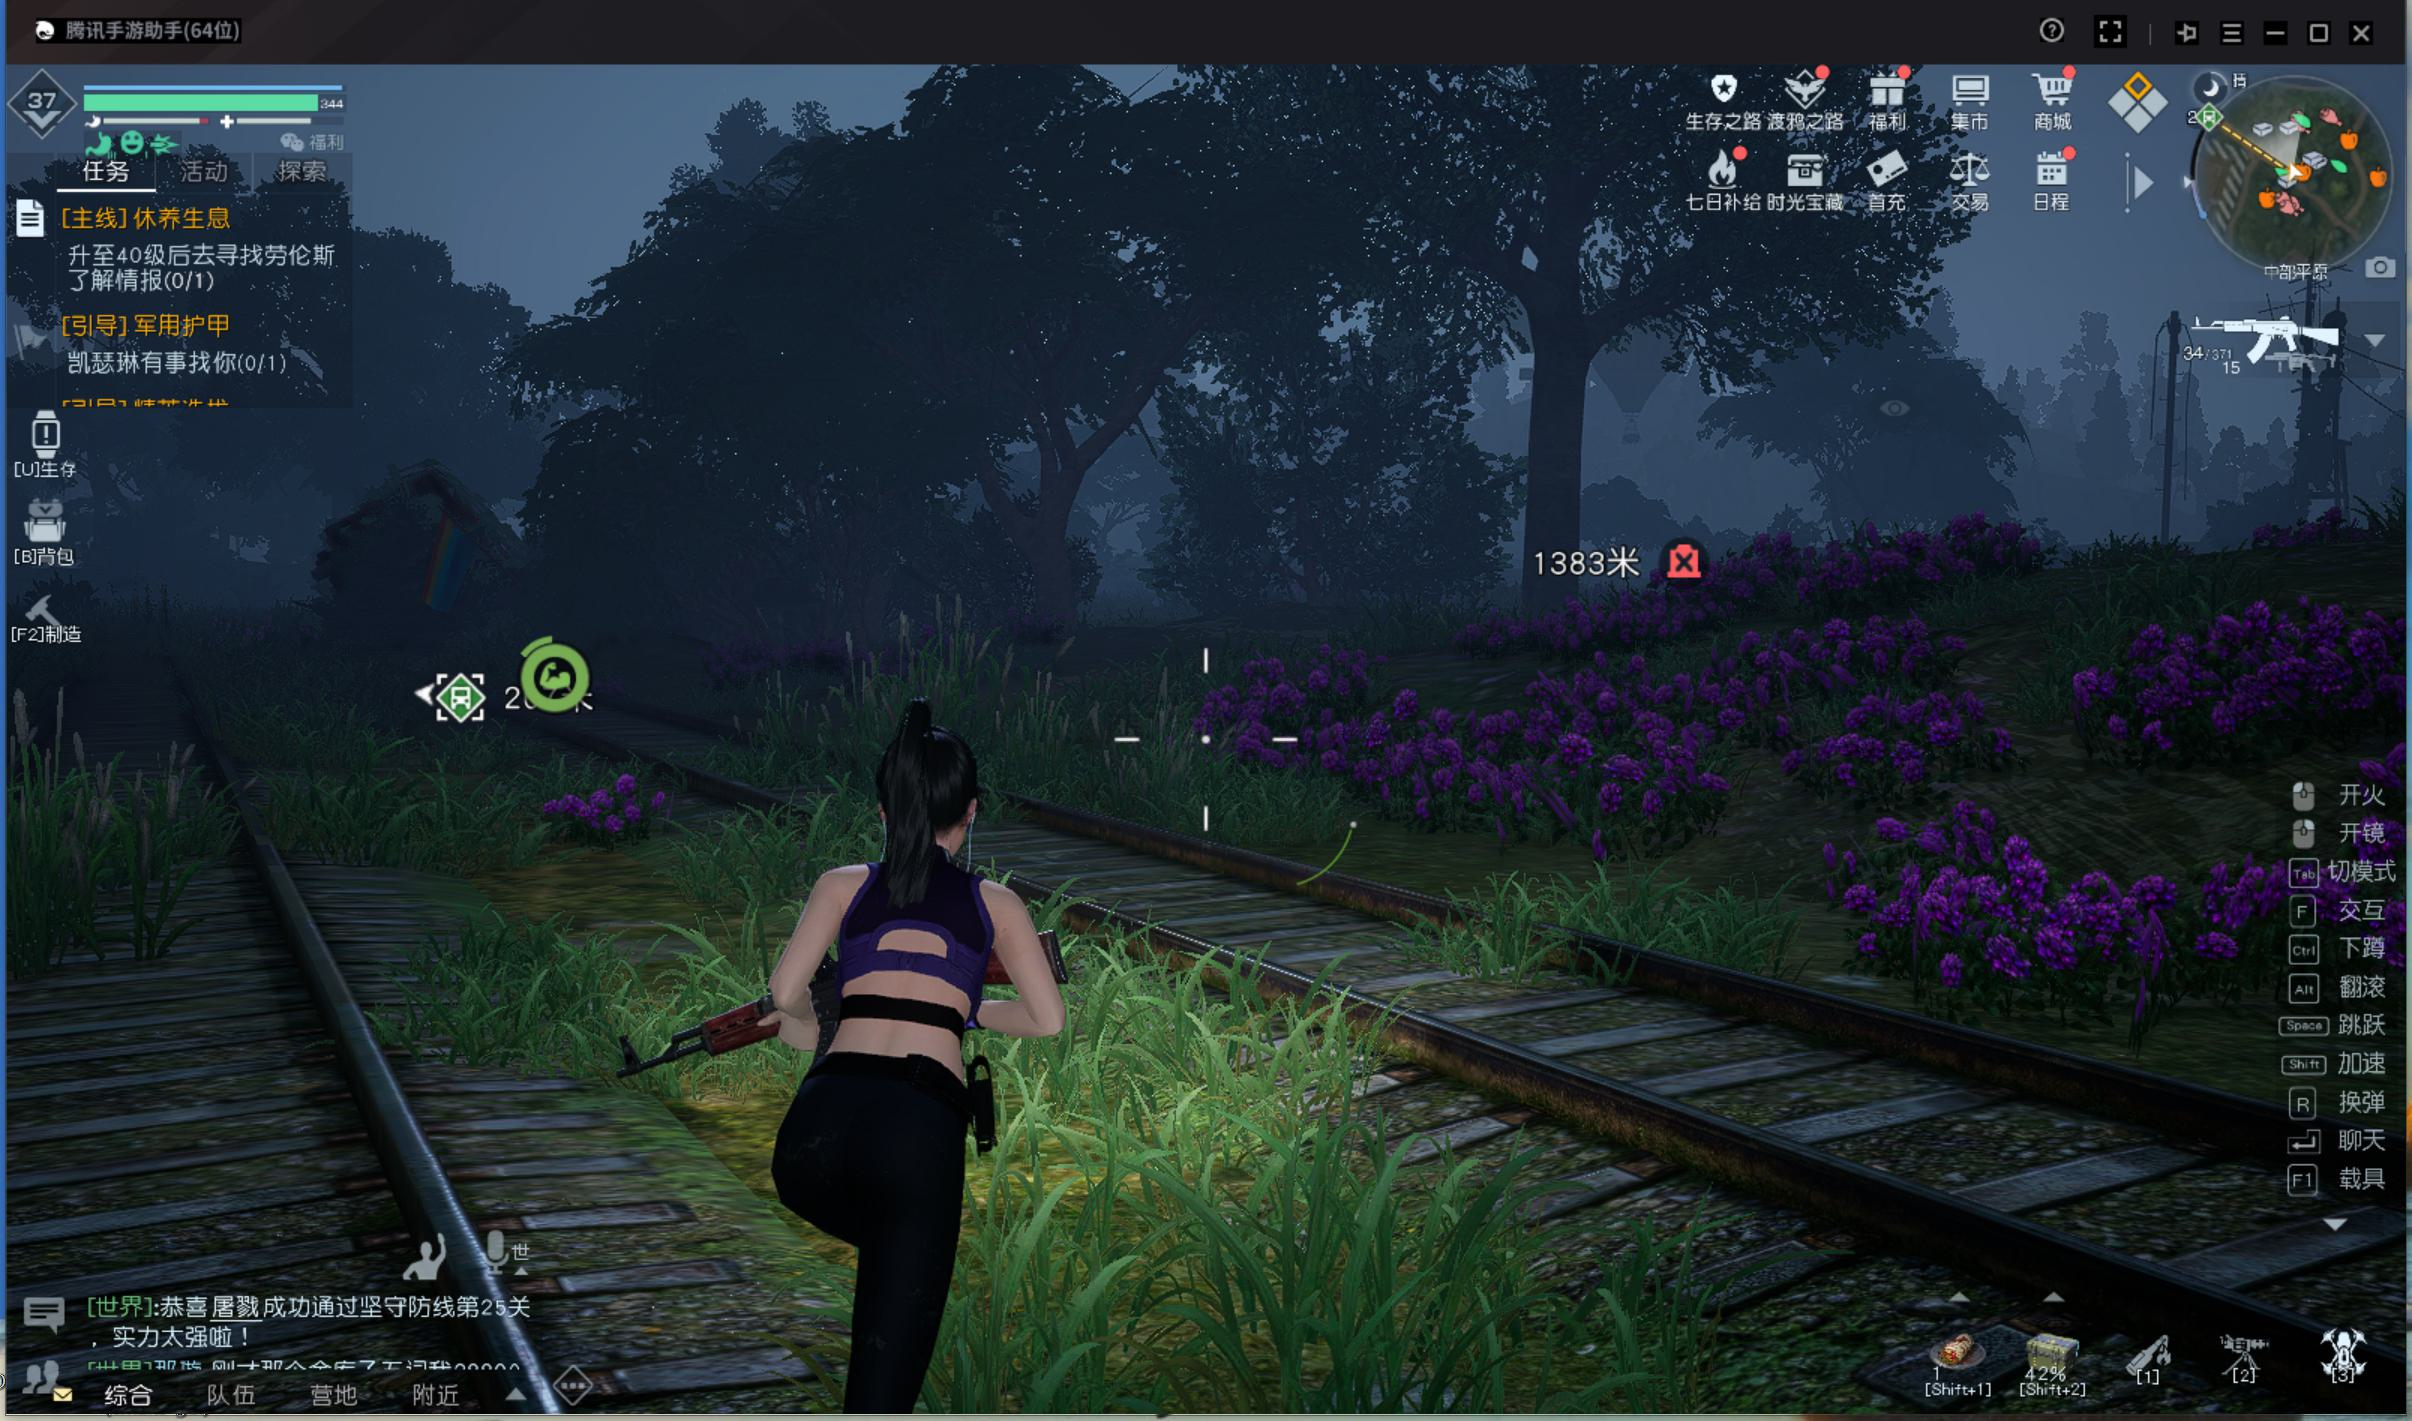tree: (1494, 350, 1615, 645), (1018, 469, 1081, 645)
